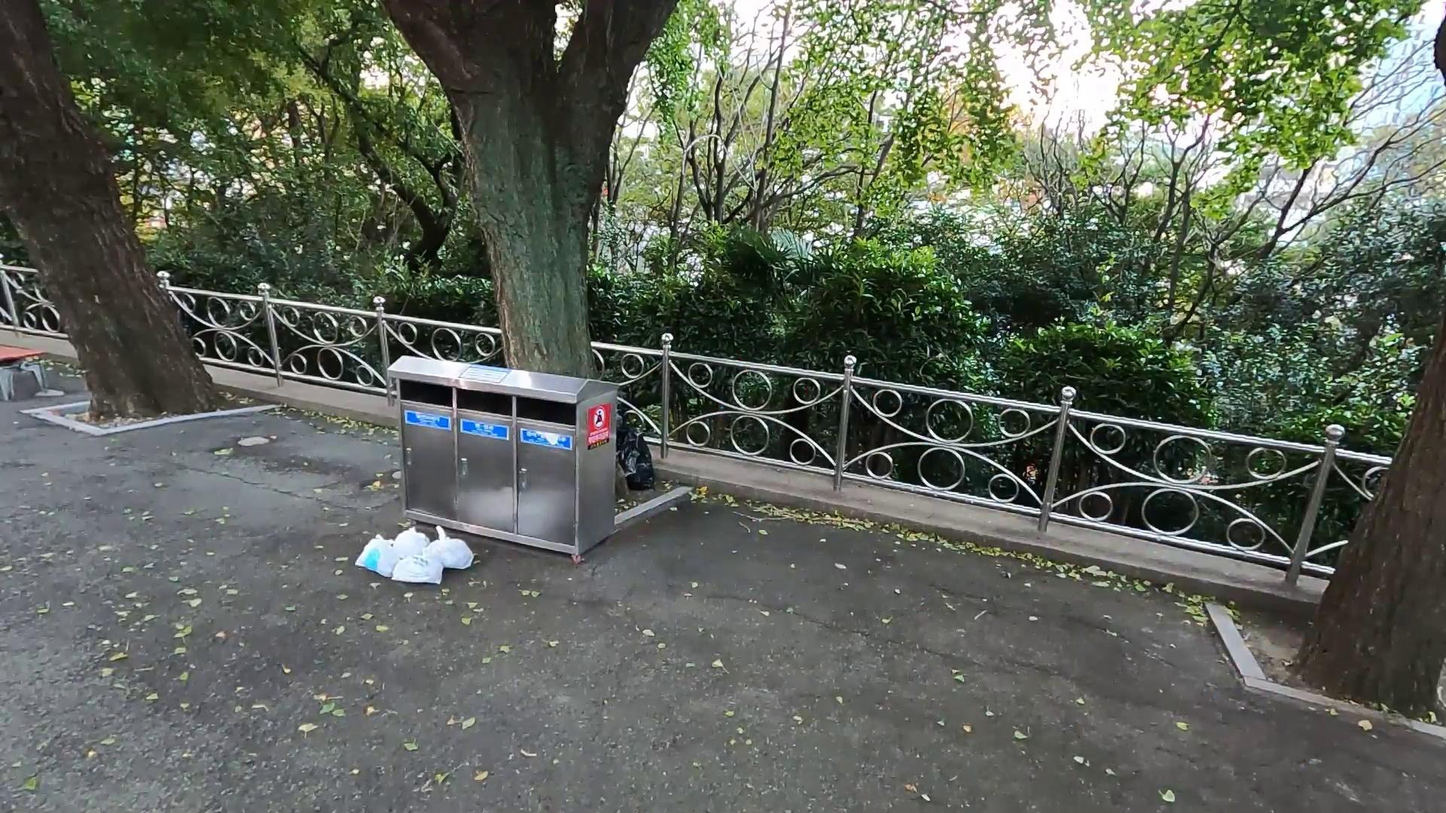trash: (614, 406, 657, 491), (425, 522, 476, 571), (391, 547, 446, 587), (354, 532, 400, 575), (388, 524, 434, 562)
